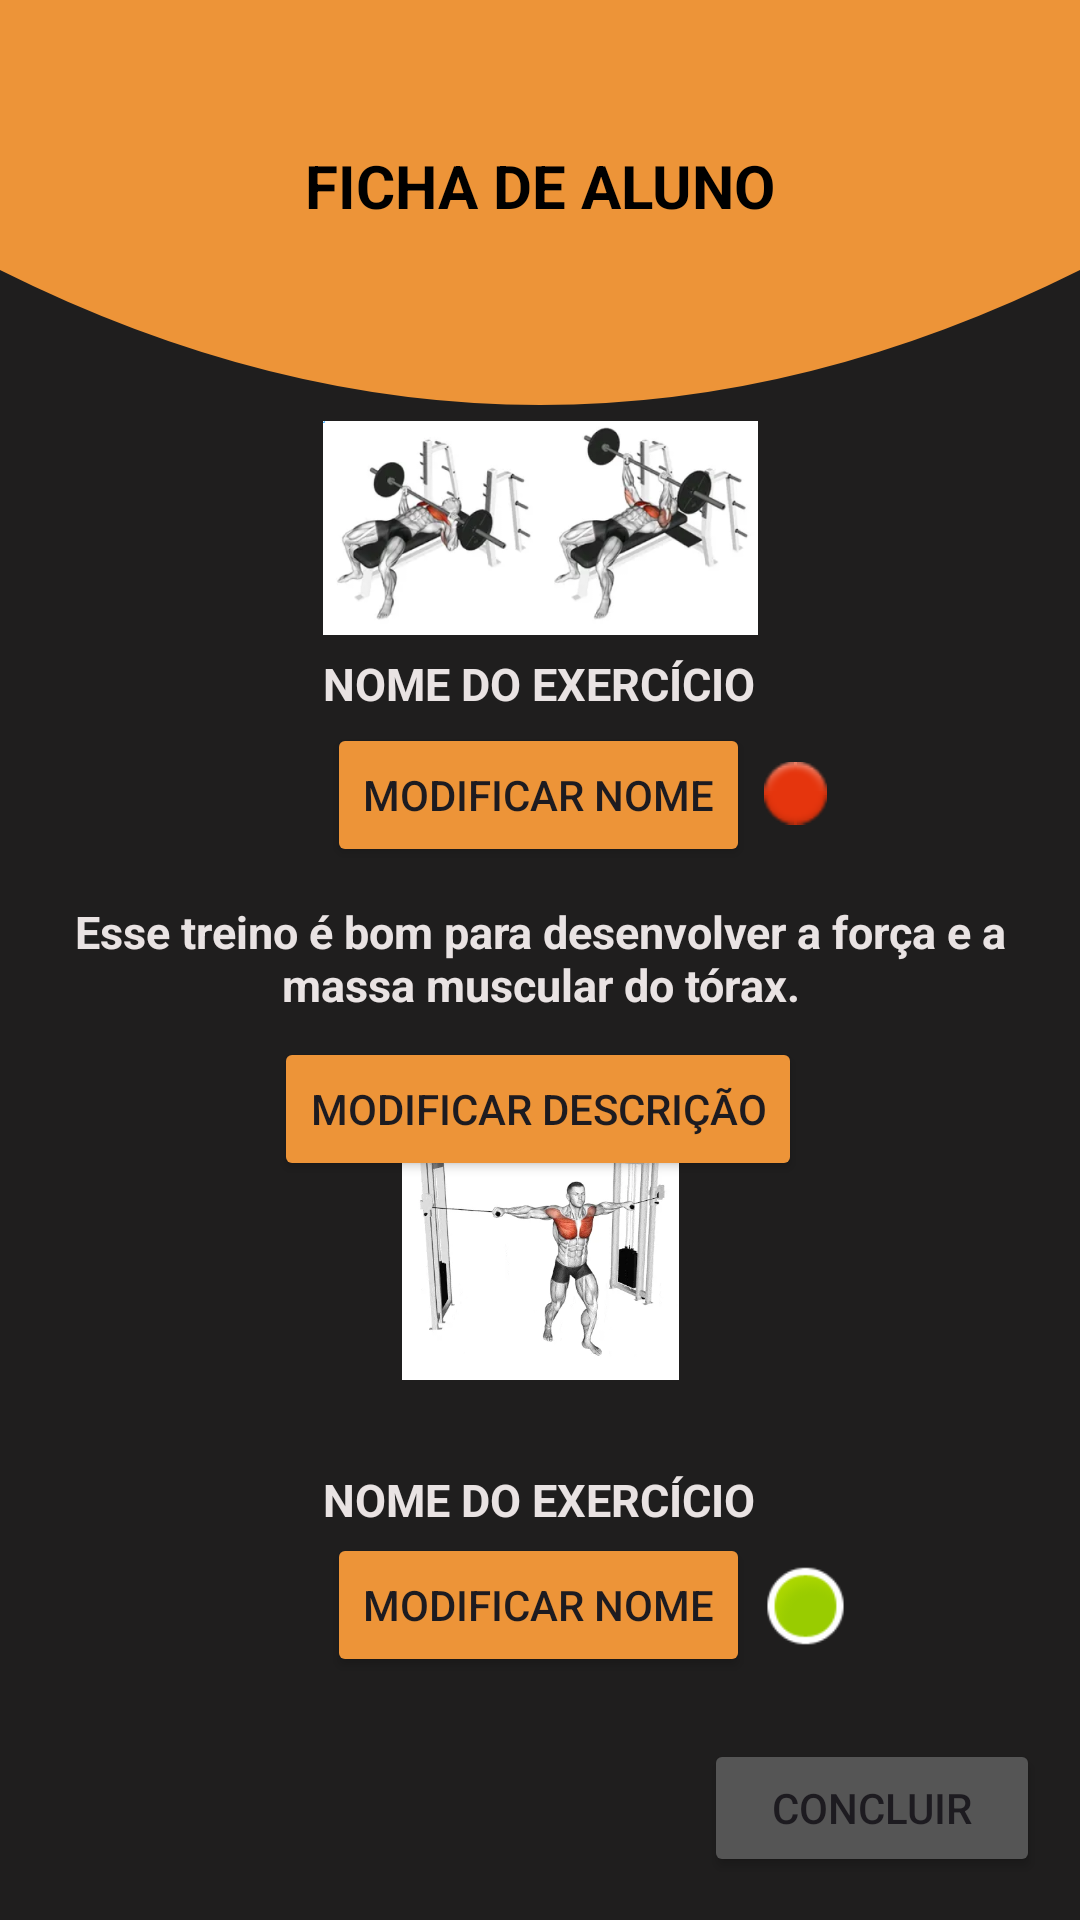

Screen size 1080*1920. Icon name, then its box in pixels as (left=x1, top=y1, right=x2, bottom=y2):
polia aberta: (left=377, top=1104, right=704, bottom=1380)
presence online: (left=767, top=1567, right=844, bottom=1645)
